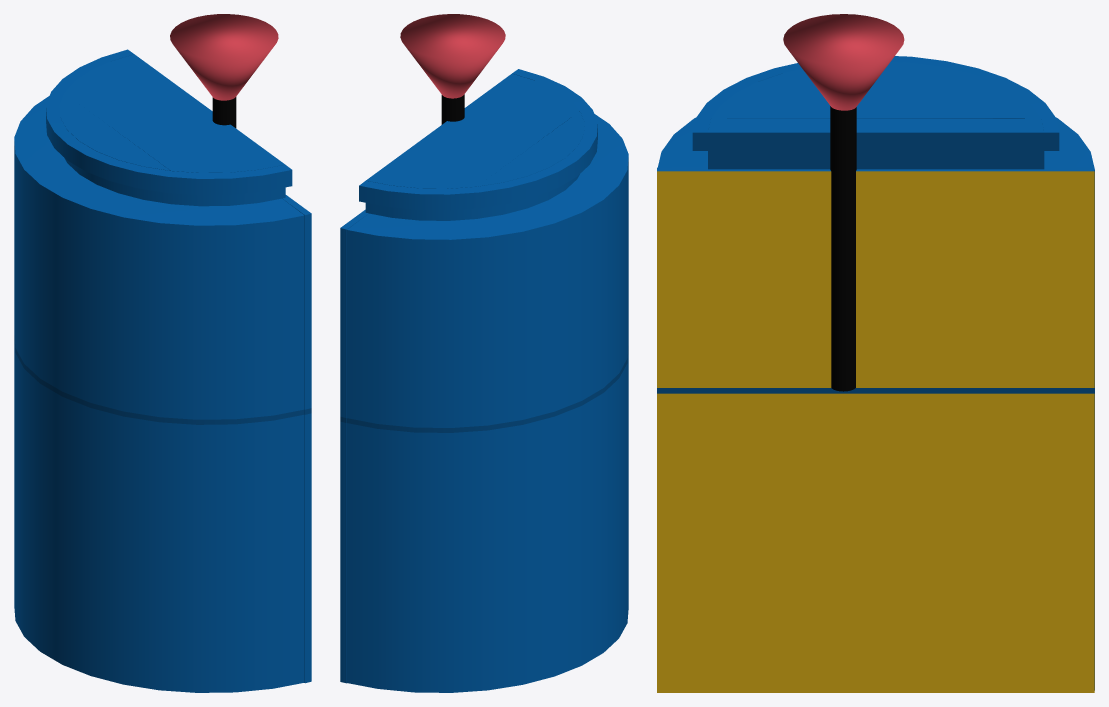
The model's file is Pipa Inlet.fbx.
3 renders of one model, left to right at view 1: azimuth 30°, elevation 25°; view 2: azimuth 150°, elevation 25°; view 3: azimuth 270°, elevation 25°, orthographic. The views are drawn at different scales.
Visible parts, largest first — view 1: 1/2 Digester, Corong 1/2, 1/2 Plane, Pipa Inlet 1/2; view 2: 1/2 Digester, Corong 1/2, 1/2 Plane, Pipa Inlet 1/2; view 3: 1/2 Plane, 1/2 Digester, Corong 1/2, Pipa Inlet 1/2.
Part boxes in pixels (left/top/right/bottom): 1/2 Digester: left=14, top=49, right=304, bottom=692; Corong 1/2: left=170, top=14, right=278, bottom=100; 1/2 Plane: left=129, top=140, right=311, bottom=683; Pipa Inlet 1/2: left=212, top=97, right=236, bottom=128; 1/2 Digester: left=343, top=69, right=628, bottom=692; Corong 1/2: left=400, top=14, right=505, bottom=98; 1/2 Plane: left=340, top=209, right=368, bottom=683; Pipa Inlet 1/2: left=441, top=94, right=464, bottom=124; 1/2 Plane: left=657, top=167, right=1094, bottom=692; 1/2 Digester: left=658, top=56, right=1094, bottom=690; Corong 1/2: left=783, top=14, right=904, bottom=110; Pipa Inlet 1/2: left=830, top=106, right=856, bottom=391.
Bounding box in the file's own units: 159 × 411 × 250.
